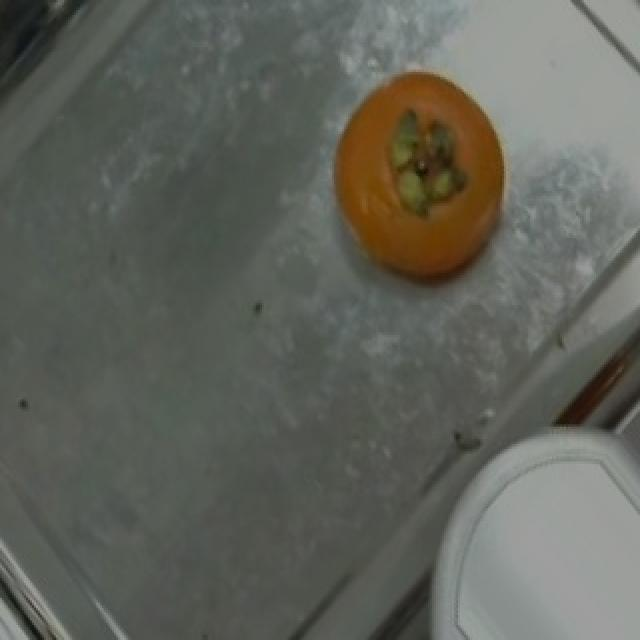Fruit: (304, 52, 538, 298), (434, 434, 640, 640)
